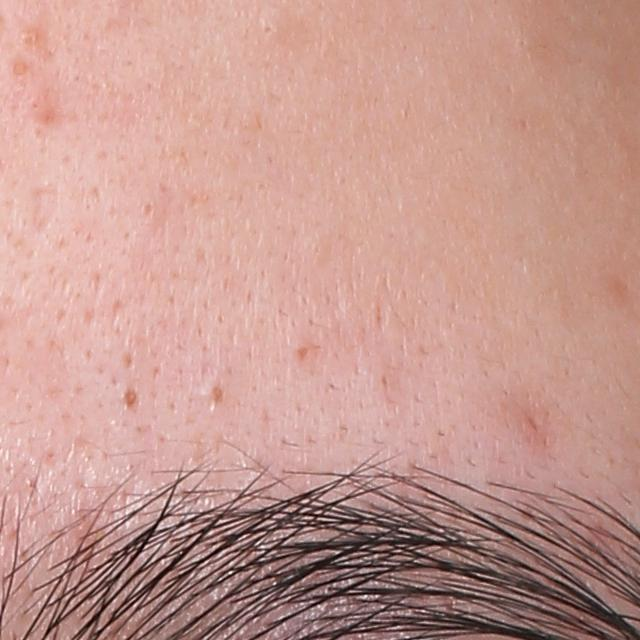atrophic_scar: (32, 179, 65, 243)
comedo: (4, 56, 34, 85), (253, 17, 284, 41), (13, 25, 42, 50), (119, 382, 147, 407), (205, 382, 227, 408), (139, 198, 157, 218)
